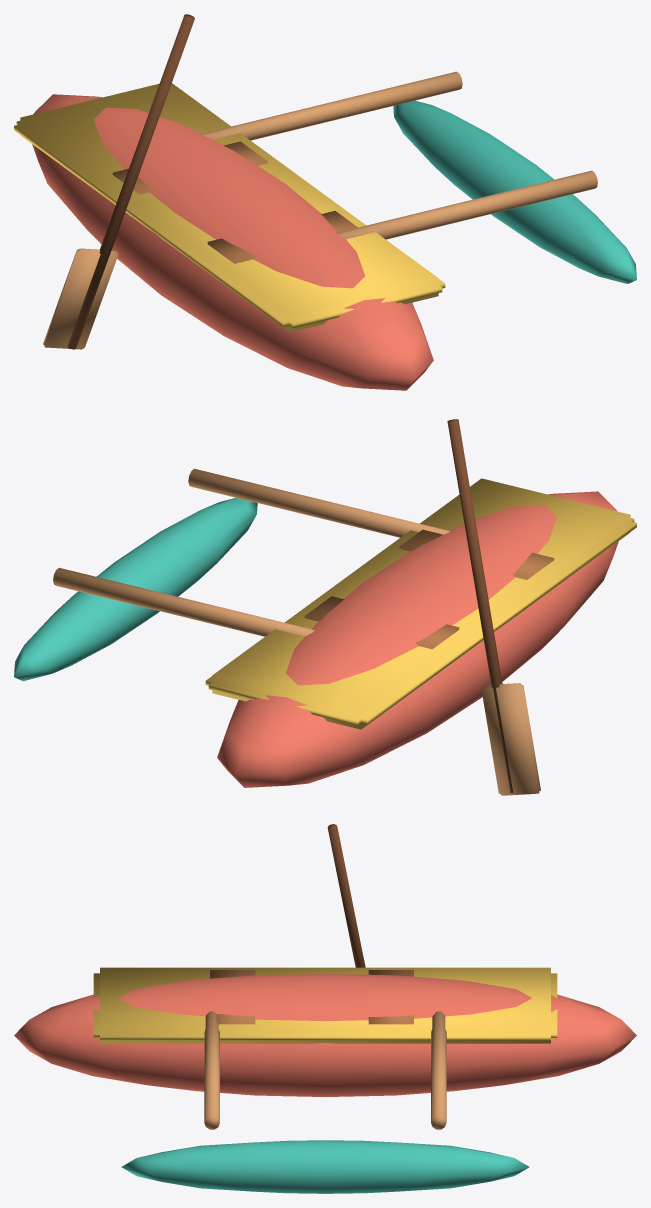
The model's file is HawaiianCanoe.fbx.
3 views of the same model, one above another, from view 1: azimuth 30°, elevation 25°; view 2: azimuth 150°, elevation 25°; view 3: azimuth 270°, elevation 25° (orthographic). The views are drawn at different scales.
Visible parts, largest first — view 1: HawaiianCanoe; view 2: HawaiianCanoe; view 3: HawaiianCanoe.
Part boxes in pixels (<box>): HawaiianCanoe: <box>14,14,636,390</box>; HawaiianCanoe: <box>14,419,636,795</box>; HawaiianCanoe: <box>14,824,636,1193</box>.
Bounding box in the file's own units: 2.2 × 1.51 × 3.02.
